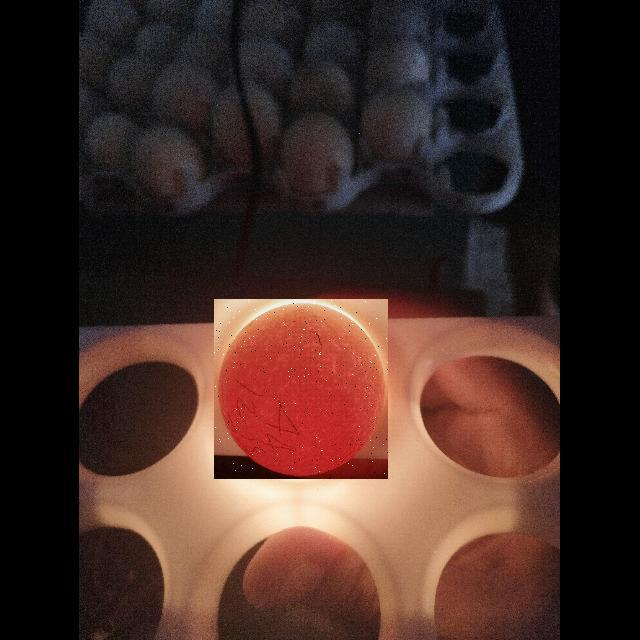Infertile: (214, 299, 388, 479)
